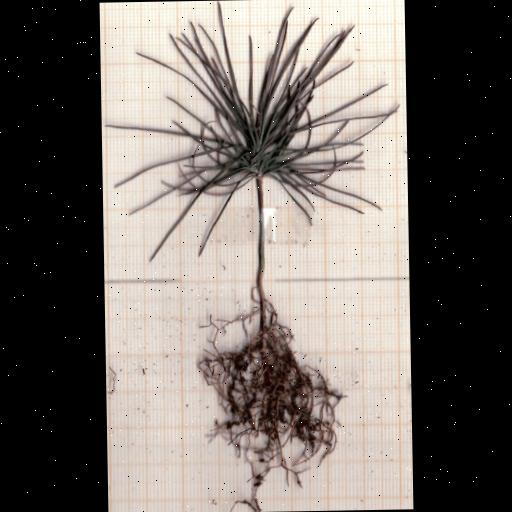flowerCedr: (110, 2, 394, 253)
rootCedr: (199, 301, 341, 512)
stemCedr: (255, 179, 267, 306)
